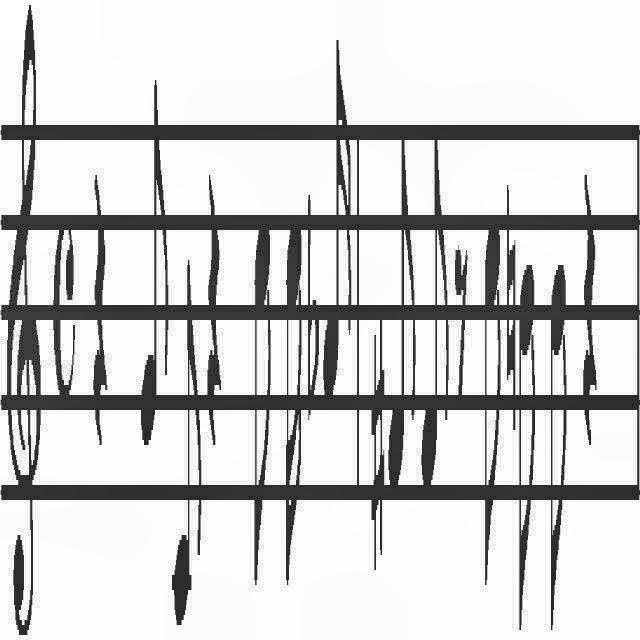Bass-clef: (6, 0, 44, 640)
Bemol: (304, 178, 324, 436)
Diez: (369, 288, 387, 608)
Eighth-note: (134, 54, 170, 486), (386, 79, 416, 518), (418, 130, 450, 526), (245, 188, 275, 608), (172, 248, 204, 640), (546, 255, 573, 640), (479, 200, 501, 600), (518, 245, 538, 635)
Eighth-rest: (454, 222, 470, 410)
Quarter-rest: (578, 137, 598, 495), (200, 148, 222, 466), (88, 158, 112, 438)
Sixteenth-note: (322, 36, 353, 428), (282, 188, 304, 608)
